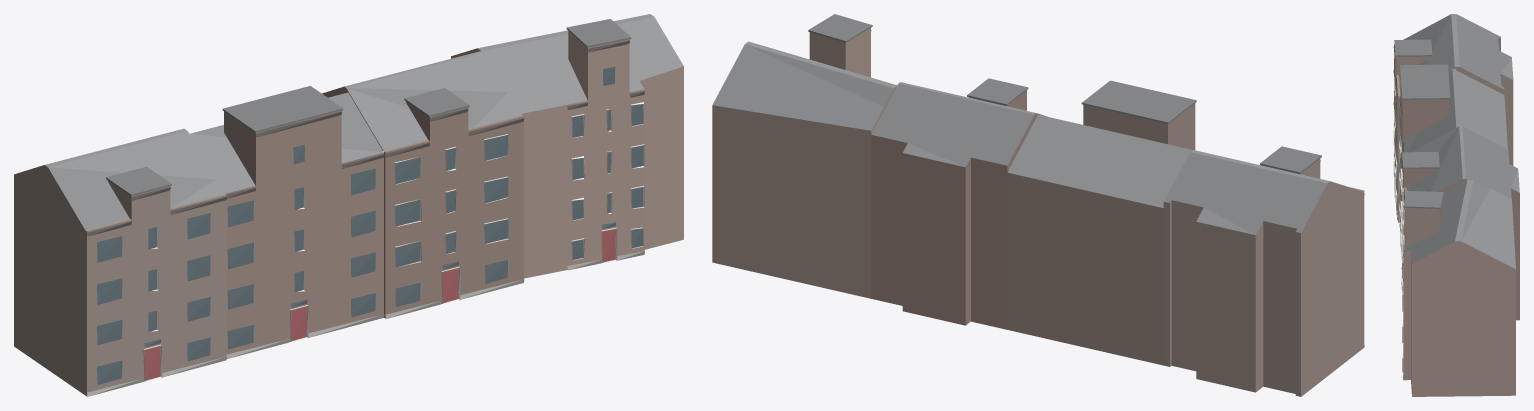
Rendered from chunk-face-luthuli-21-41-r1.lod2.glb.
The picture shows the model from 3 angles, left to right: view 1: azimuth 30°, elevation 25°; view 2: azimuth 150°, elevation 25°; view 3: azimuth 270°, elevation 25°; orthographic projection. The views are drawn at different scales.
Parts seen in each view (by area): view 1: lod2; view 2: lod2; view 3: lod2.
Boxes of the visible parts, <box> form: lod2: <box>14,14,683,396</box>; lod2: <box>712,14,1364,396</box>; lod2: <box>1393,14,1519,396</box>.
Size of the model in its own units: 46.96 by 16.18 by 11.01.
